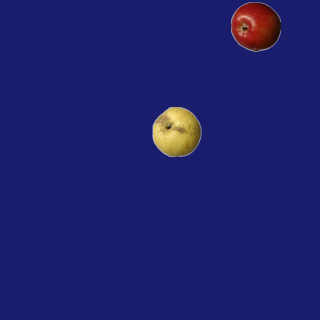Apple Braeburn: (230, 1, 280, 51)
Apple Golden 1: (151, 106, 201, 156)
